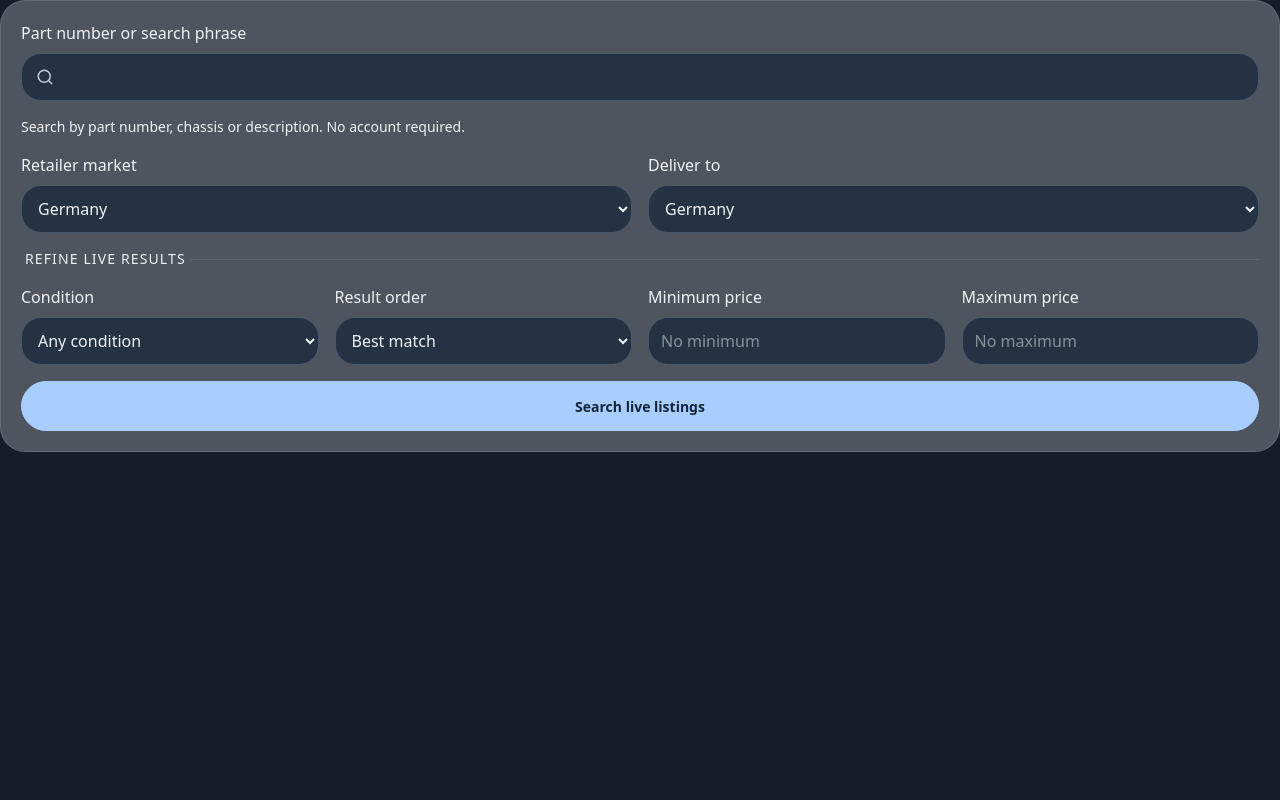
it: keeps a failed search actionable with a safe retailer continuation
Type "2011 e90 rear lights" into the search field at (640, 77), box [21,53,1259,101]
Wait 500 ms
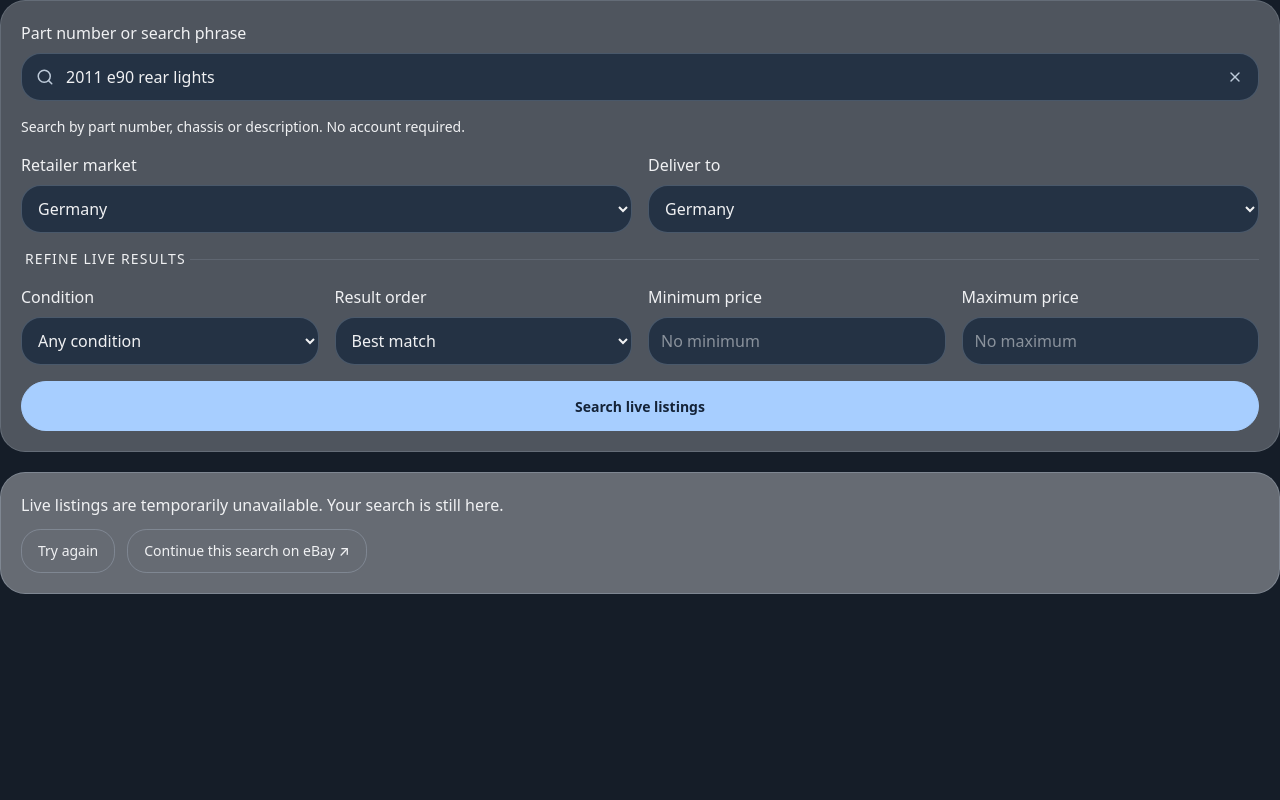
Expected: the message shows "temporarily unavailable", [21,494,504,516]
